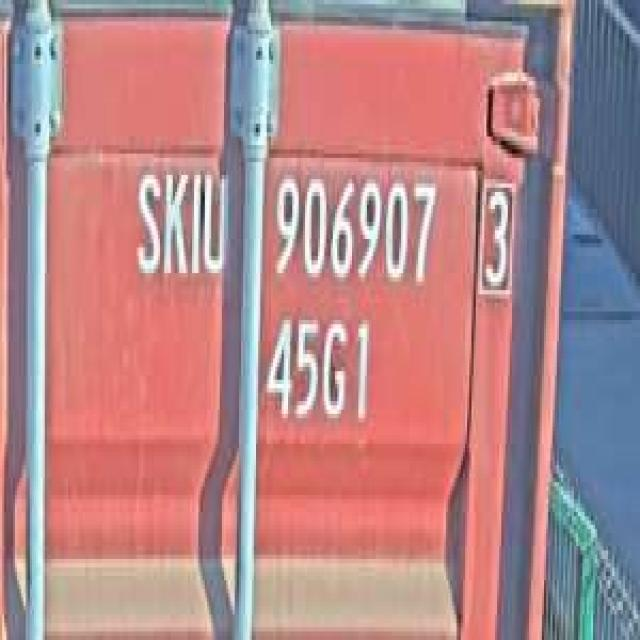dv: (474, 166, 518, 308)
owner: (128, 158, 228, 294)
serial: (264, 158, 442, 299)
size: (260, 303, 376, 435)
